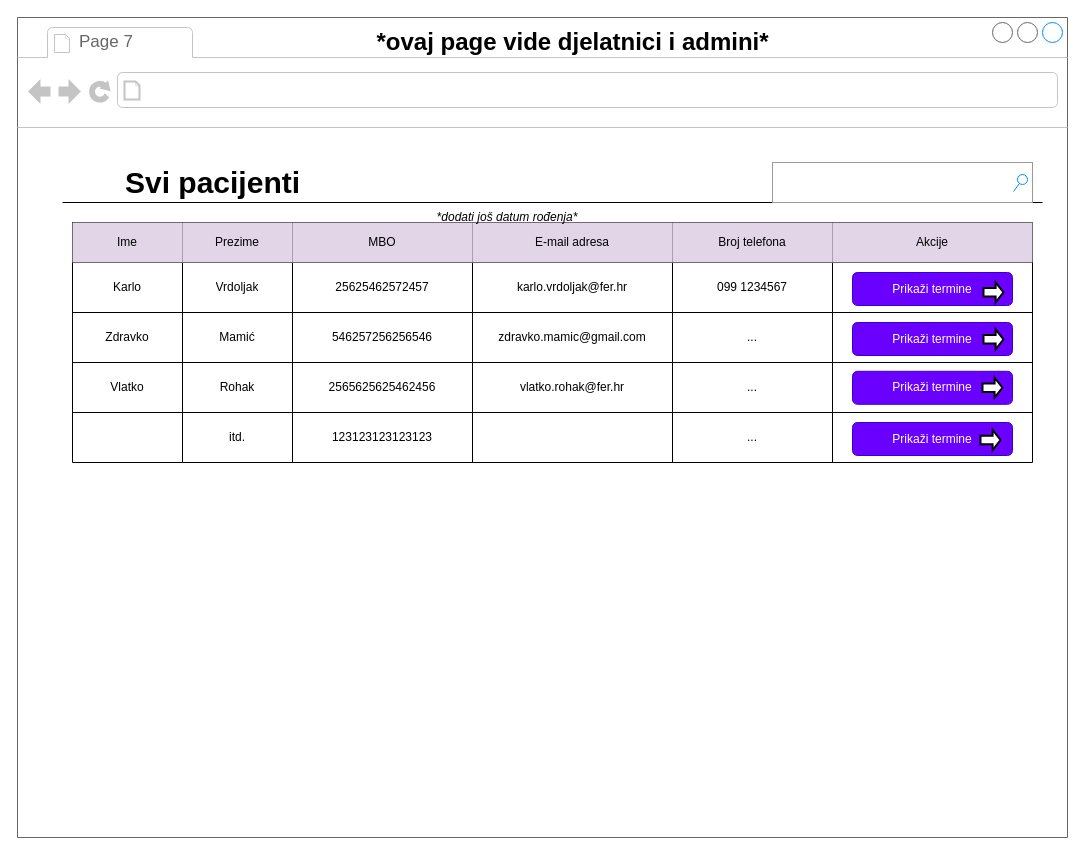
Image size: 1085x855. Some labels were removed from this diagram. Here are the shapes that lost their labels. From the top down, the centre of each, then its label:
(x=272, y=90): https://www.default.com
(x=902, y=182): Pretraga
